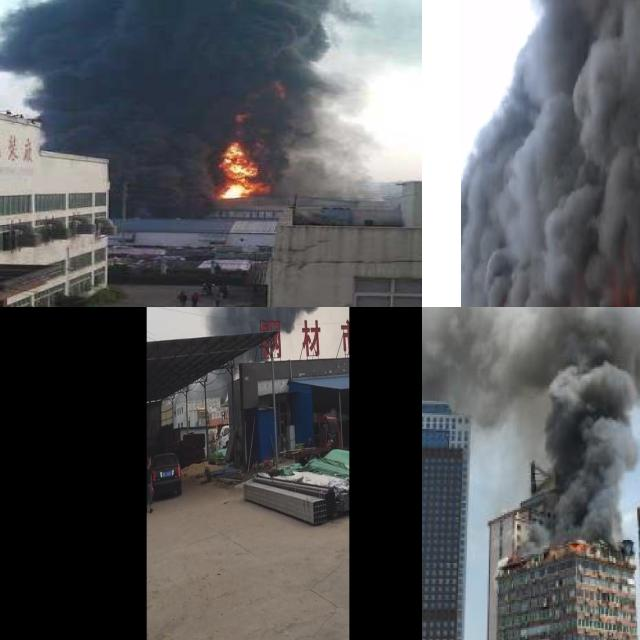fire: (213, 142, 259, 198), (551, 534, 590, 558)
smoke: (0, 0, 422, 217), (460, 0, 640, 307), (422, 307, 640, 530)
